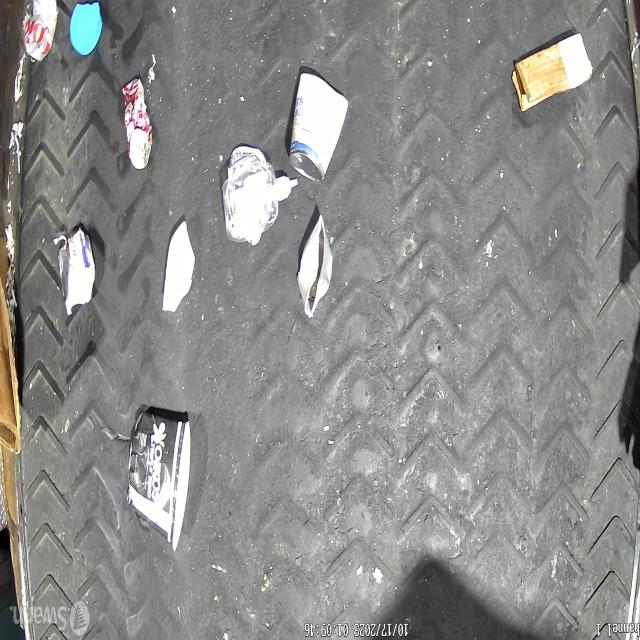can: (288, 71, 350, 184), (298, 214, 334, 318), (121, 77, 153, 169), (60, 229, 94, 307), (20, 0, 58, 64)
